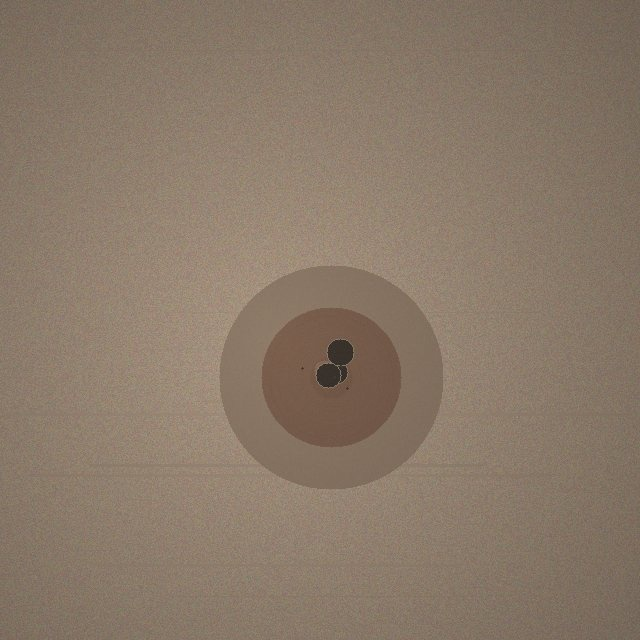shrinkage: (219, 265, 443, 489)
